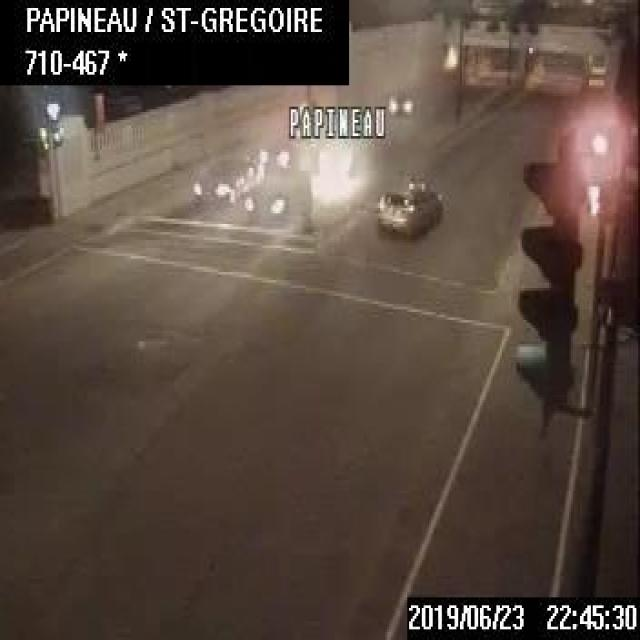vehicle: (374, 181, 442, 237), (243, 170, 315, 221), (190, 154, 244, 202), (255, 130, 301, 170), (387, 80, 422, 112)
